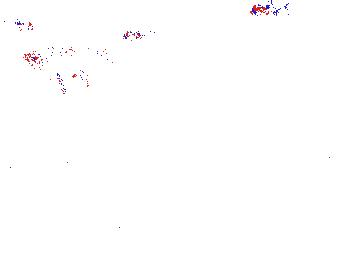X-ray fish: (79, 1, 122, 16), (327, 154, 346, 186)
red belly glassfish: (249, 2, 288, 19), (121, 28, 157, 43), (7, 17, 34, 34)
redtail glassfish: (26, 50, 91, 92), (49, 41, 118, 61)
